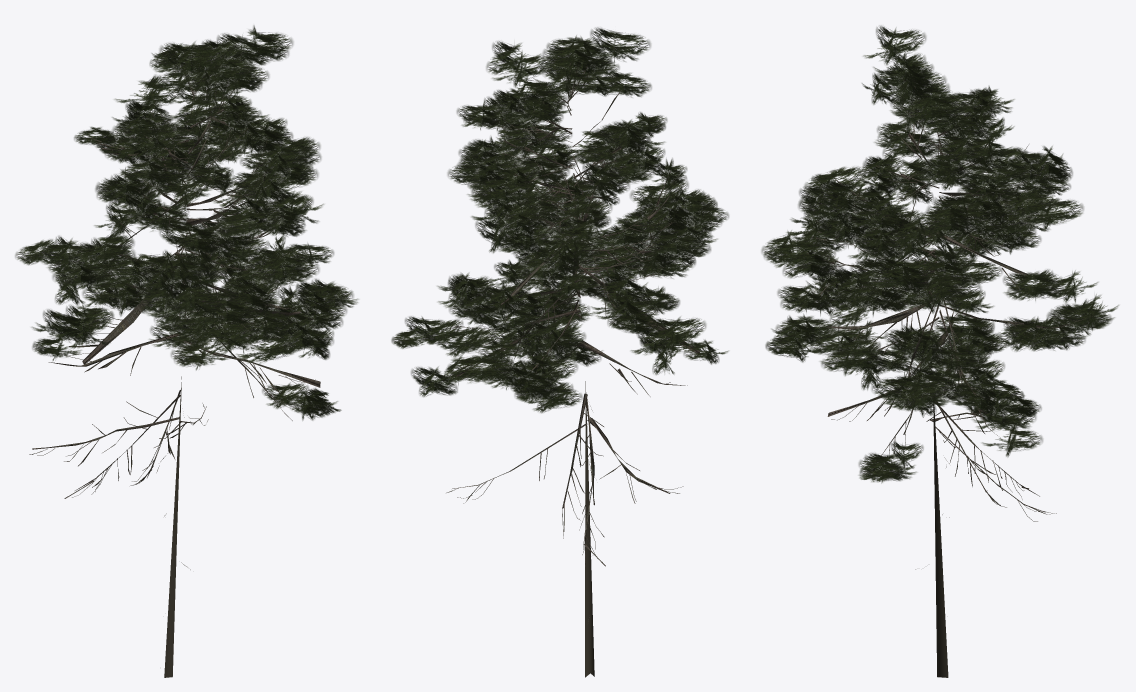
The model's file is tree-v2-high.glb.
3 renders of one model, left to right at view 1: azimuth 30°, elevation 25°; view 2: azimuth 150°, elevation 25°; view 3: azimuth 270°, elevation 25°, orthographic. The views are drawn at different scales.
Visible parts, largest first — view 1: tree-v2-high; view 2: tree-v2-high; view 3: tree-v2-high.
Boxes of the visible parts, x1,y1,x2,y2 form: tree-v2-high: [15, 25, 358, 677]; tree-v2-high: [391, 27, 728, 677]; tree-v2-high: [761, 25, 1118, 677].
Bounding box in the file's own units: 6.22 × 12.5 × 6.34.
Materials: 4 (4 with a texture image).
